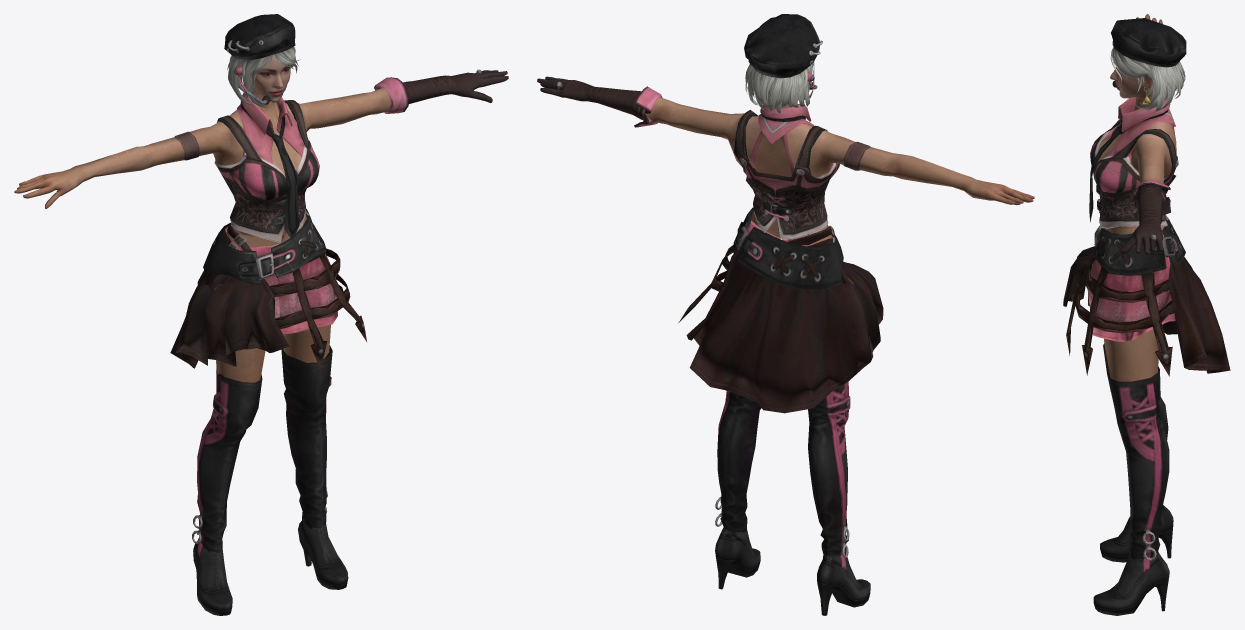
Rendered from kapella-free_fire.glb.
The picture shows the model from 3 angles, left to right: view 1: azimuth 30°, elevation 25°; view 2: azimuth 150°, elevation 25°; view 3: azimuth 270°, elevation 25°; orthographic projection.
Parts seen in each view (by area): view 1: Object_2; view 2: Object_2; view 3: Object_2.
Boxes of the visible parts, bbox=[...] form: Object_2: bbox=[14, 14, 508, 615]; Object_2: bbox=[537, 14, 1034, 615]; Object_2: bbox=[1063, 14, 1230, 615].
Size of the model in its own units: 0.8652 by 0.9561 by 0.2559.
1 material, 1 textured.
